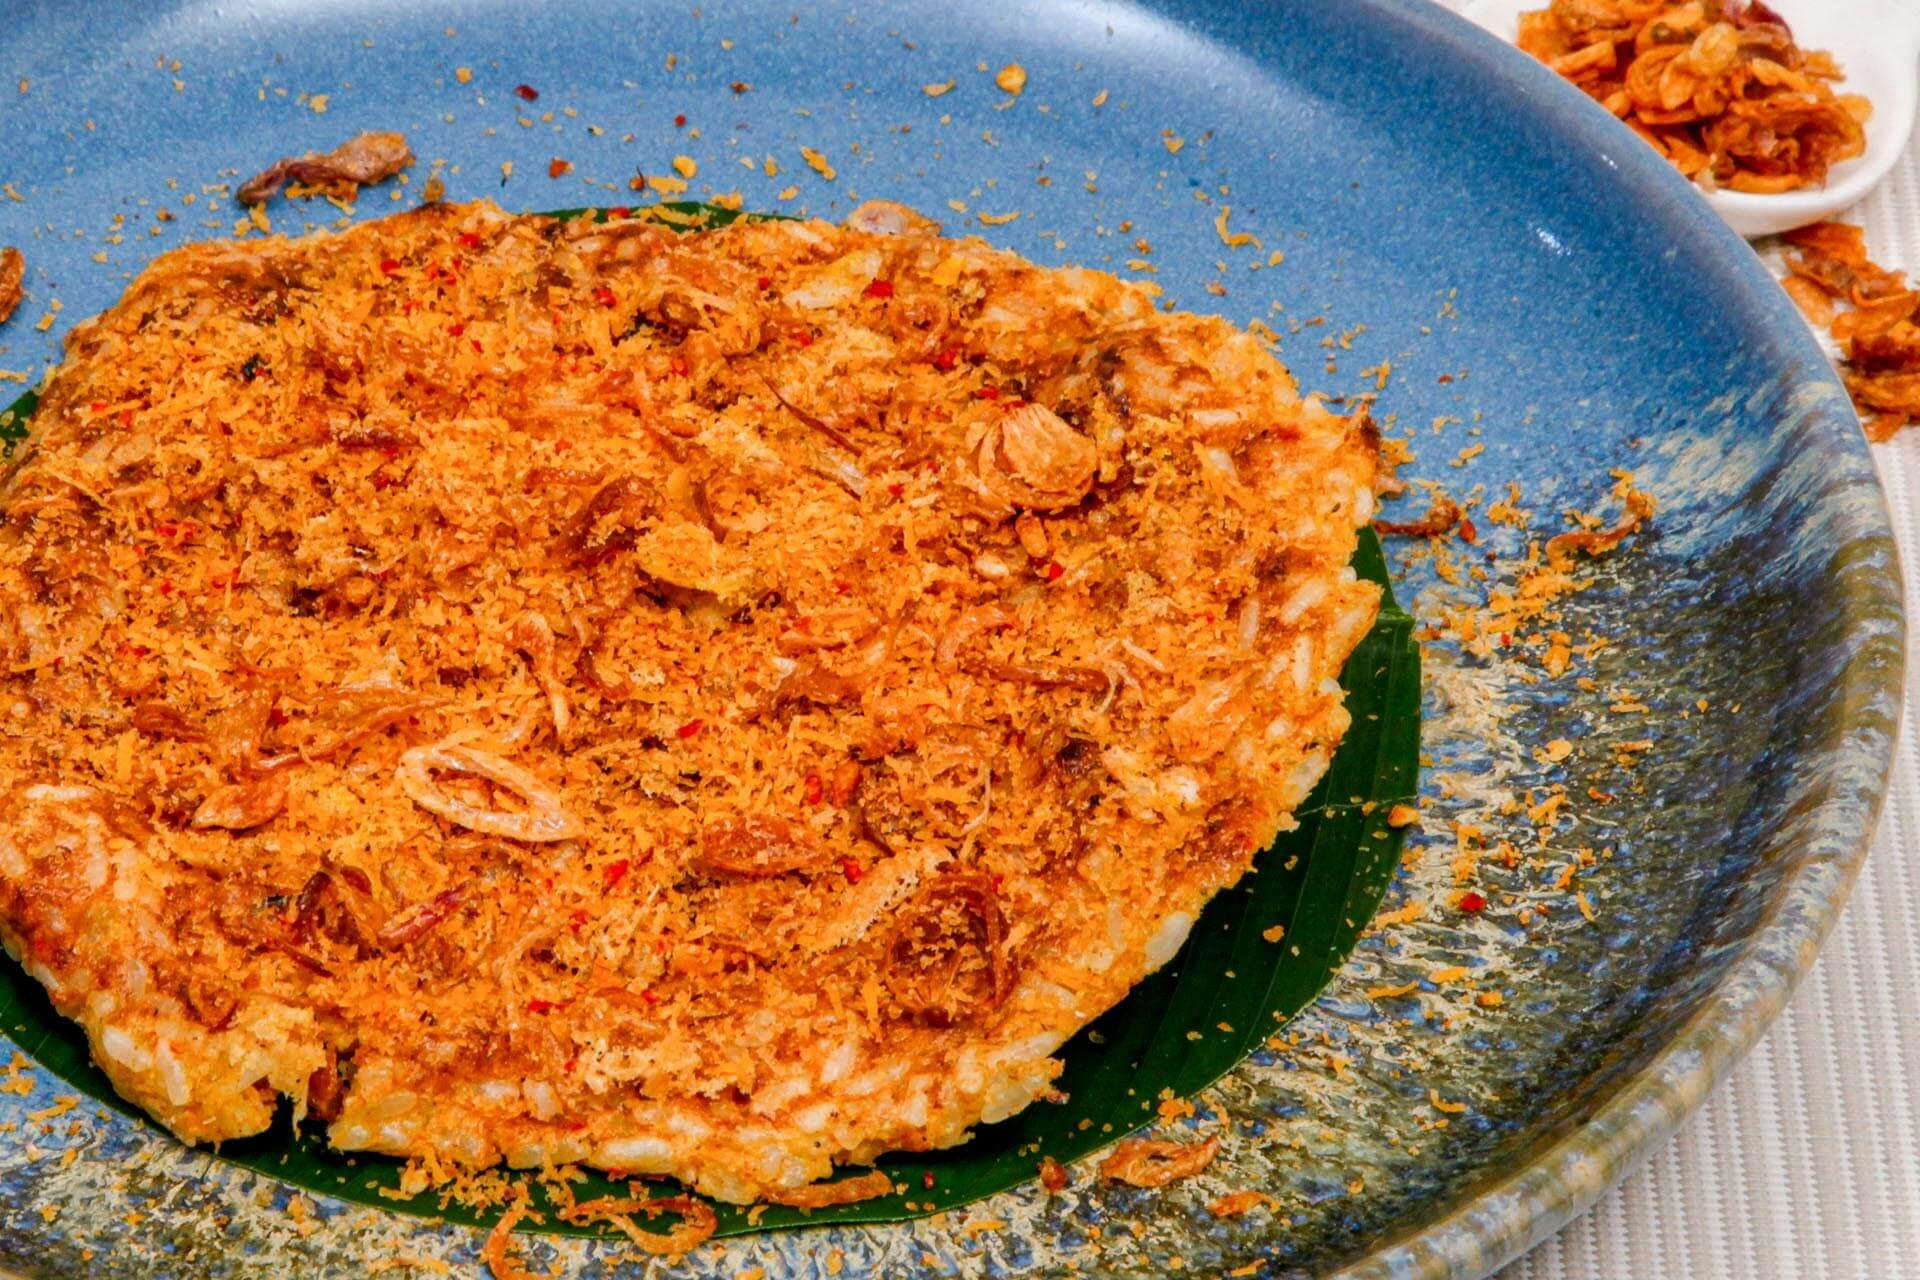kerak_telor: (6, 214, 1390, 1211)
